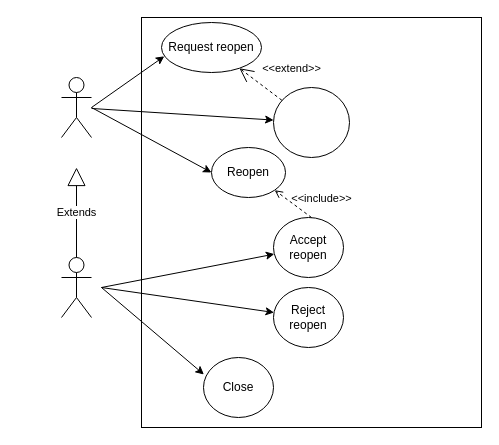
Some shapes in this 499 by 445 pixel diagram are drawn without their labels. The centre of each missing label's shape, as x and y in pixels:
"Cancel reopen request" belongs at (x=311, y=122).
"Organisation Manager" belongs at (x=76, y=287).
"User" belongs at (x=76, y=107).
